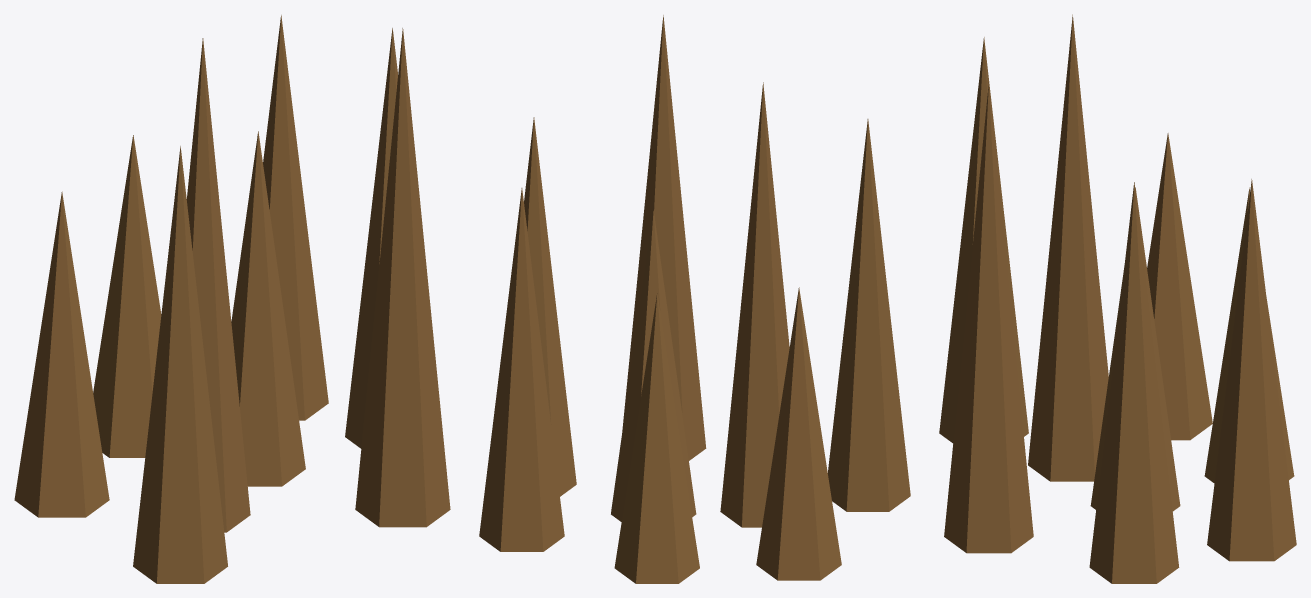
Rendered from Spike Group.glb.
The picture shows the model from 3 angles, left to right: view 1: azimuth 30°, elevation 25°; view 2: azimuth 150°, elevation 25°; view 3: azimuth 270°, elevation 25°; orthographic projection. The views are drawn at different scales.
Visible parts, largest first — view 1: Spike_Group; view 2: Spike_Group; view 3: Spike_Group.
Part boxes in pixels (bbox=[...]): Spike_Group: bbox=[14, 15, 450, 583]; Spike_Group: bbox=[479, 15, 910, 583]; Spike_Group: bbox=[939, 14, 1296, 583].
Size of the model in its own units: 2.06 by 2.47 by 1.76.
